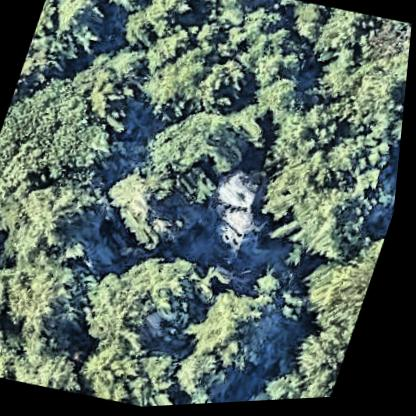tree-top: (78, 236, 222, 371), (133, 91, 273, 222), (0, 168, 131, 285), (7, 70, 131, 187), (174, 0, 285, 107), (189, 278, 294, 386), (294, 233, 389, 352), (78, 324, 205, 412), (303, 43, 411, 145), (94, 168, 204, 262), (283, 176, 383, 276), (0, 244, 88, 356), (0, 98, 57, 244), (66, 34, 159, 121), (261, 323, 359, 404), (243, 16, 328, 104), (0, 328, 102, 399), (140, 44, 221, 127), (319, 128, 405, 202), (246, 70, 320, 139), (207, 205, 282, 269), (36, 0, 111, 60), (173, 346, 245, 408), (119, 0, 193, 60), (354, 20, 413, 93), (312, 9, 374, 74), (213, 166, 271, 224), (0, 260, 31, 362), (279, 1, 332, 50), (389, 66, 410, 154)
